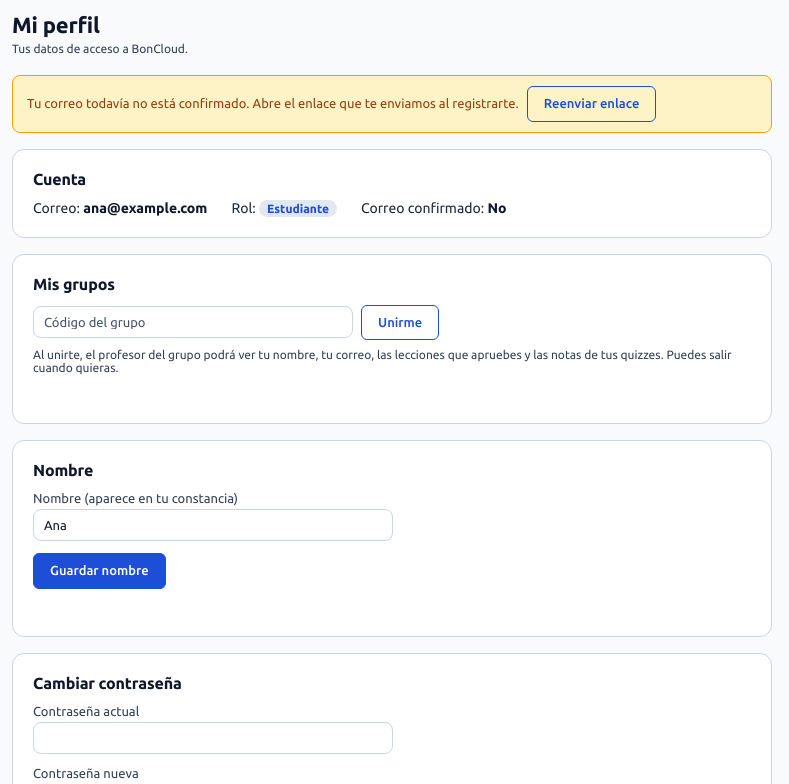
Test: perfil y administración › el perfil avisa del correo sin confirmar y permite reenviar el enlace
Click the button "Reenviar enlace" at (592, 104), box [527,86,656,122]
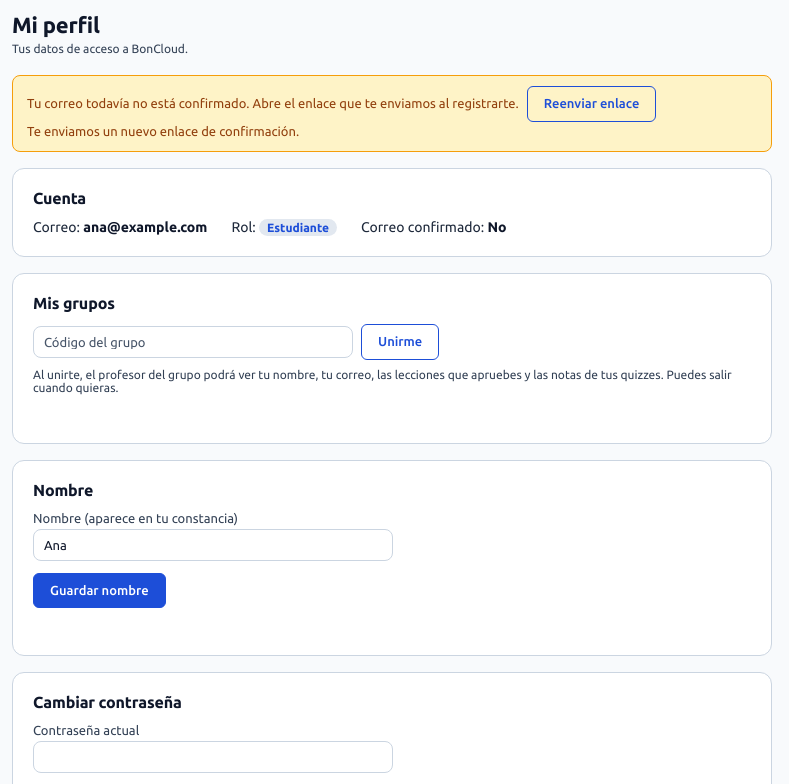
Expected: the text "estudiante" is shown, [259,219,337,236]
Now the text "nuevo enlace de confirmación" is shown, box [27,124,299,138]
